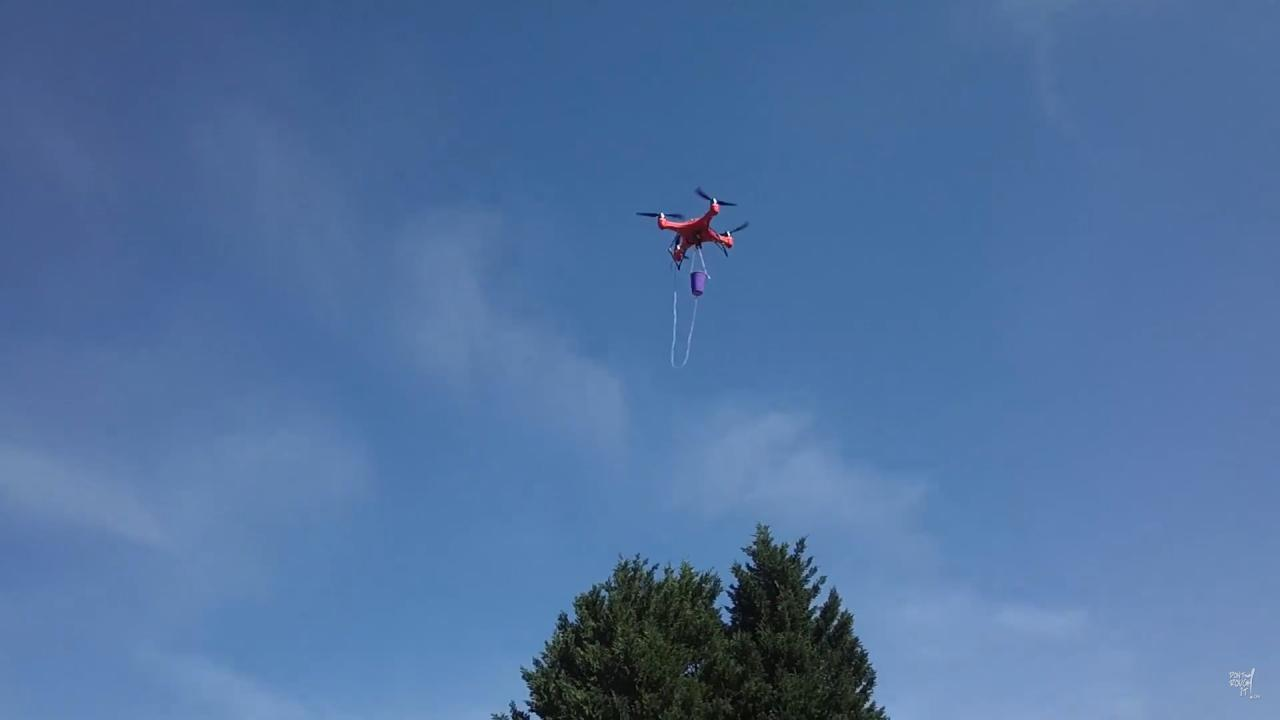Drone: (623, 179, 765, 278)
